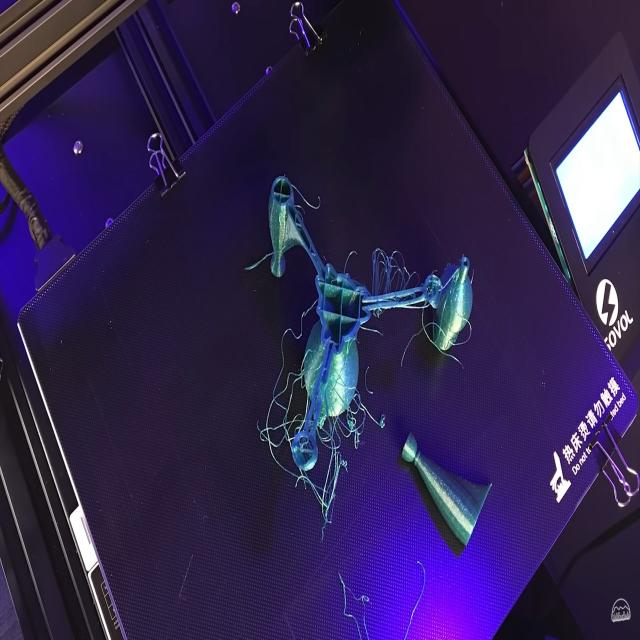spaghetti: (307, 376, 408, 474), (258, 345, 296, 480), (303, 476, 365, 539)
